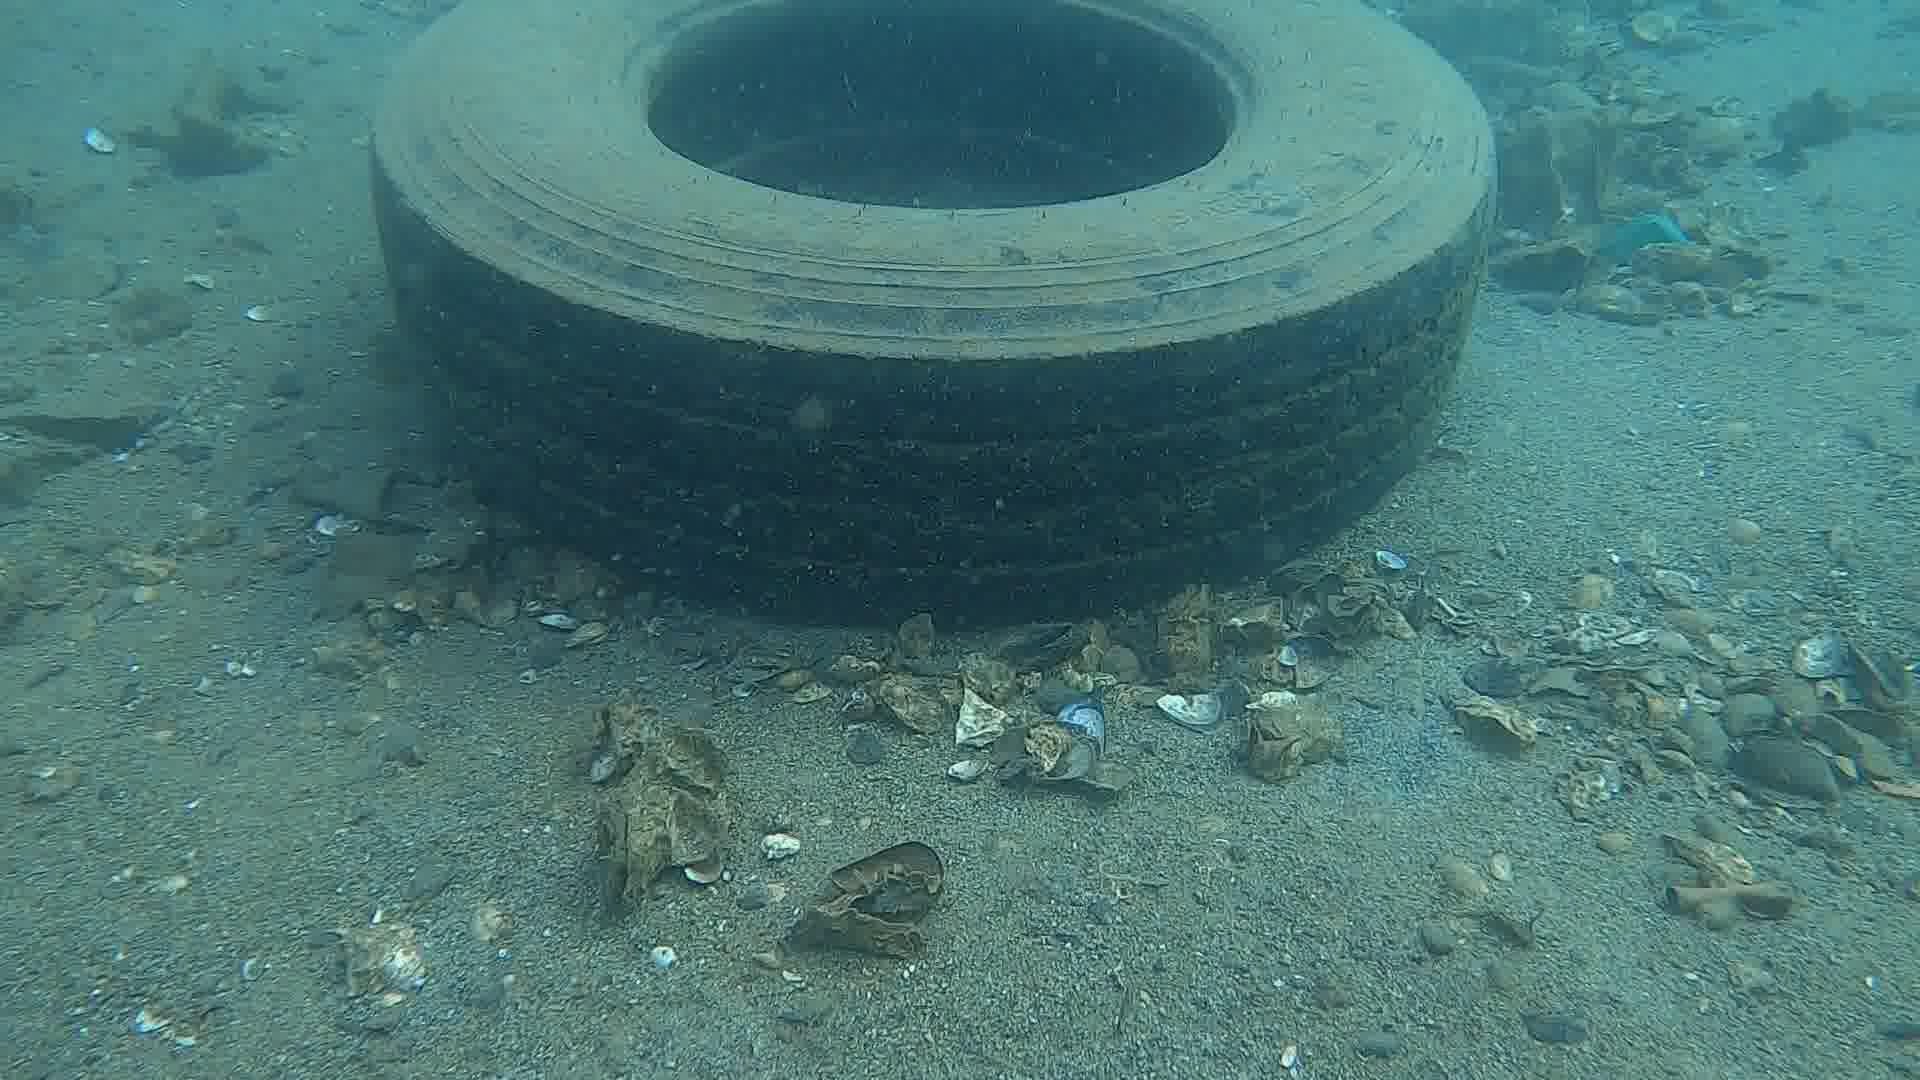tire: (364, 1, 1495, 622)
